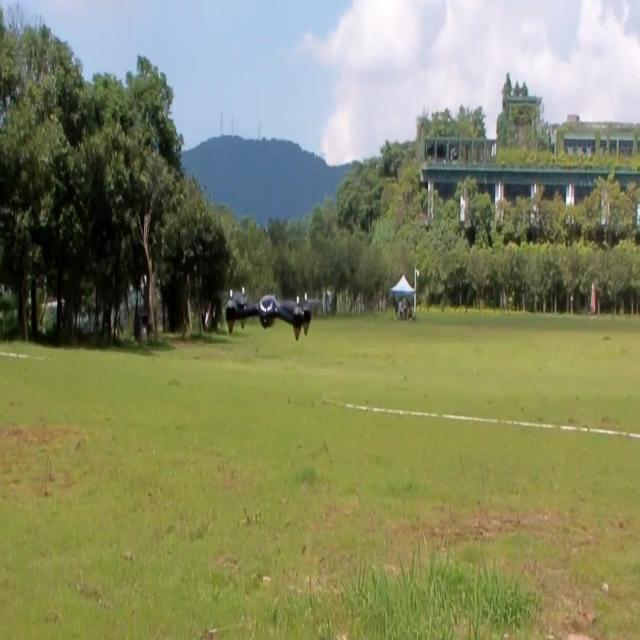drone: (222, 284, 315, 346)
